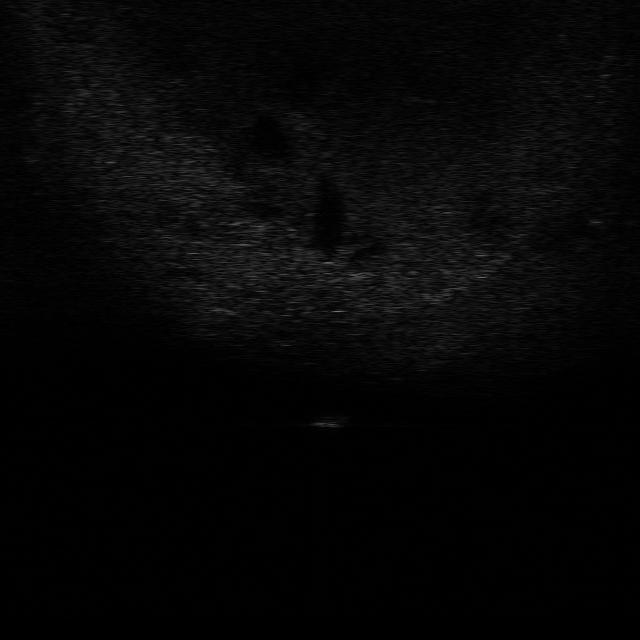cube: (309, 410, 350, 429)
